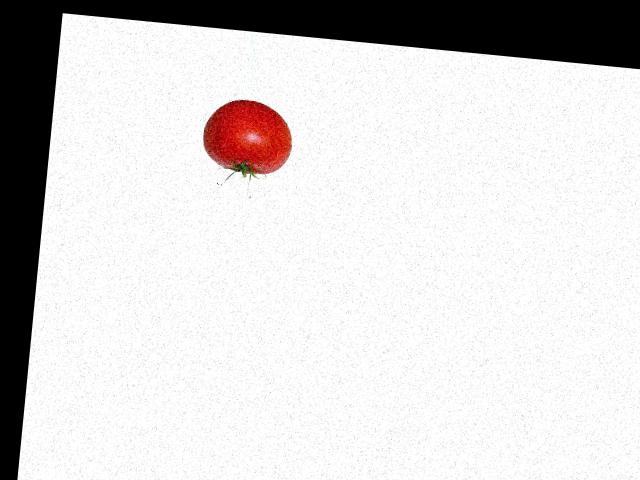tomato: (200, 96, 296, 177)
